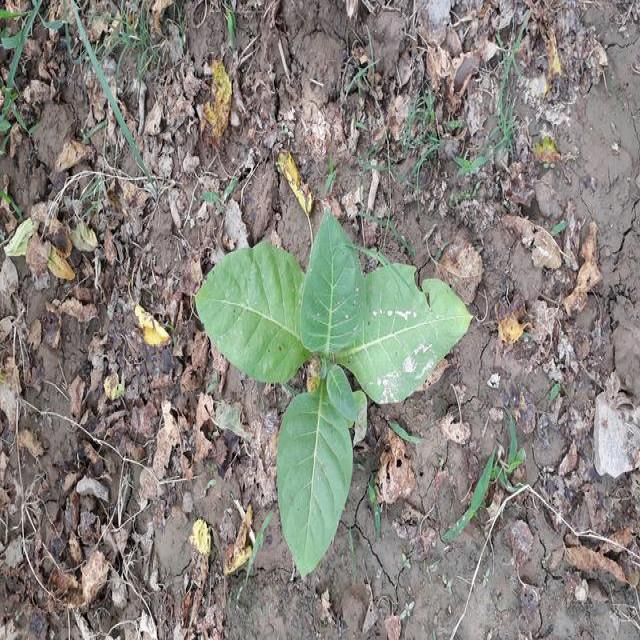crop: (192, 197, 474, 578)
